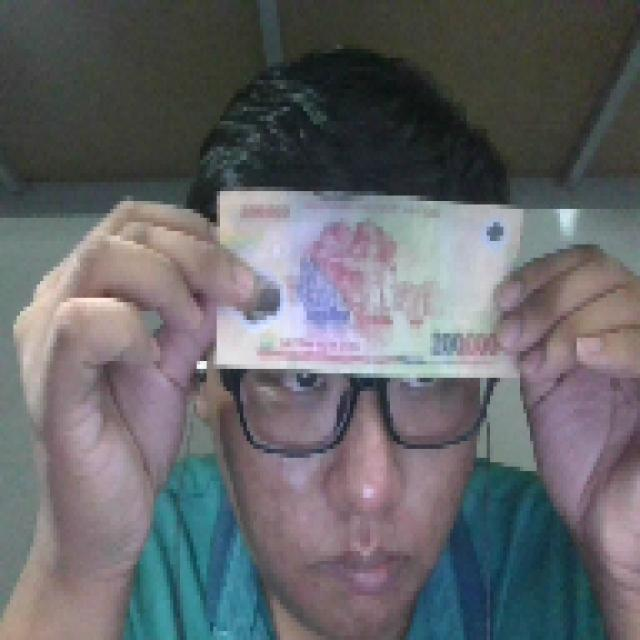200 000 VND: (210, 182, 527, 378)
